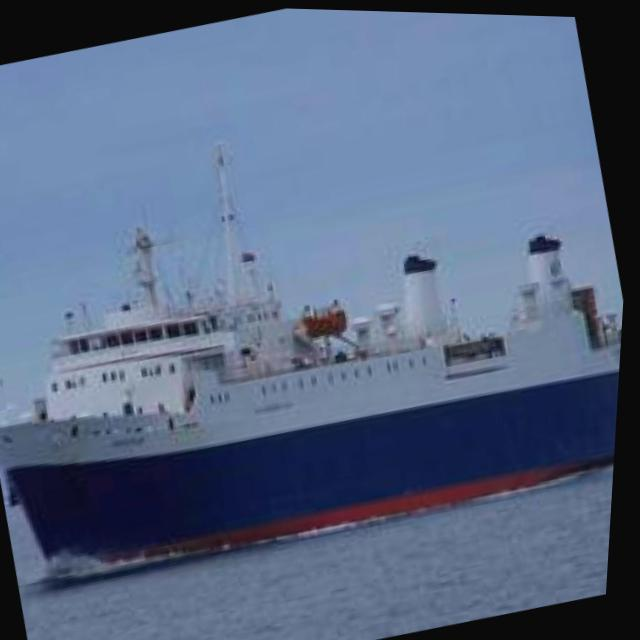ship2: (0, 142, 626, 572)
